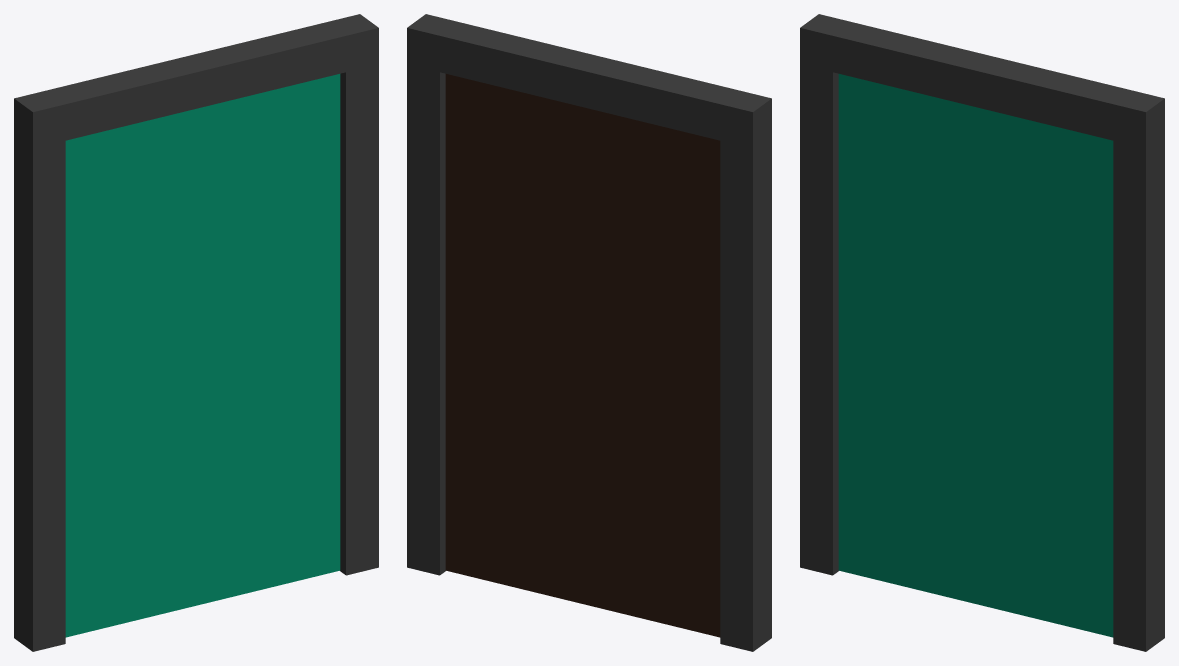
The model's file is PortaSaida.fbx.
3 renders of one model, left to right at view 1: azimuth 30°, elevation 25°; view 2: azimuth 150°, elevation 25°; view 3: azimuth 330°, elevation 25°, orthographic.
Visible parts, largest first — view 1: PortaSaida; view 2: PortaSaida; view 3: PortaSaida.
Boxes of the visible parts, <box> form: PortaSaida: <box>14,14,378,651</box>; PortaSaida: <box>407,14,771,651</box>; PortaSaida: <box>800,14,1164,651</box>.
Bounding box in the file's own units: 602 × 897 × 56.89.
